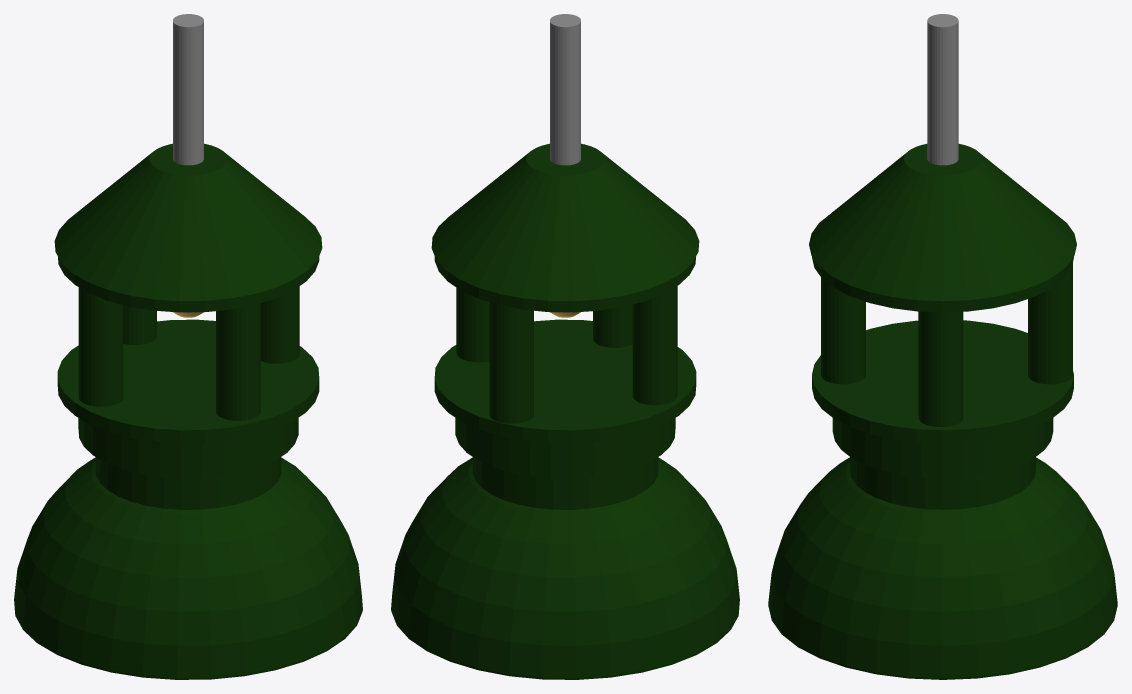
The model's file is OilLantern.fbx.
3 views of the same model, side by side, from view 1: azimuth 30°, elevation 25°; view 2: azimuth 150°, elevation 25°; view 3: azimuth 270°, elevation 25° (orthographic).
Parts seen in each view (by area): view 1: Cone; view 2: Cone; view 3: Cone.
Boxes of the visible parts, x1=… form: Cone: x1=14, y1=14, x2=362, y2=679; Cone: x1=391, y1=14, x2=739, y2=679; Cone: x1=768, y1=14, x2=1117, y2=679.
Bounding box in the file's own units: 200 × 370 × 200.
